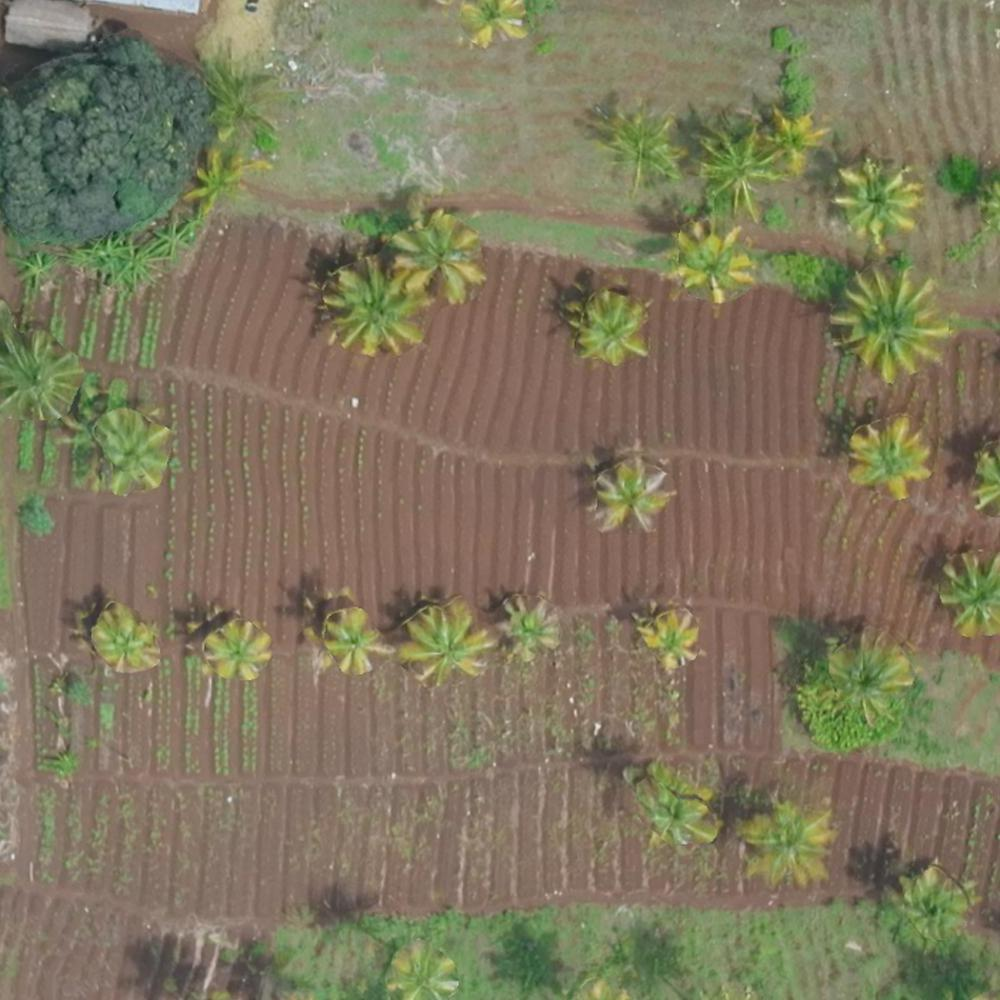Palm: (836, 273, 945, 376), (326, 261, 422, 352), (694, 123, 781, 215), (825, 632, 919, 716), (746, 799, 836, 885), (393, 212, 478, 298), (1, 328, 79, 417), (404, 602, 487, 683), (849, 415, 932, 494), (85, 409, 165, 490), (835, 159, 918, 236), (636, 766, 721, 841), (605, 113, 685, 188), (675, 228, 752, 300), (87, 601, 160, 671), (578, 293, 647, 364), (595, 460, 667, 528), (761, 106, 831, 175), (319, 610, 388, 678), (903, 866, 969, 934), (197, 621, 267, 681), (384, 941, 455, 1000), (496, 597, 563, 658), (641, 607, 703, 664)
